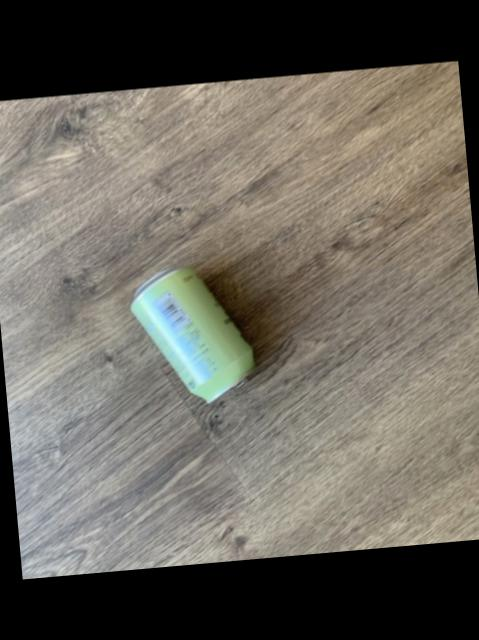metal: (132, 269, 254, 403)
